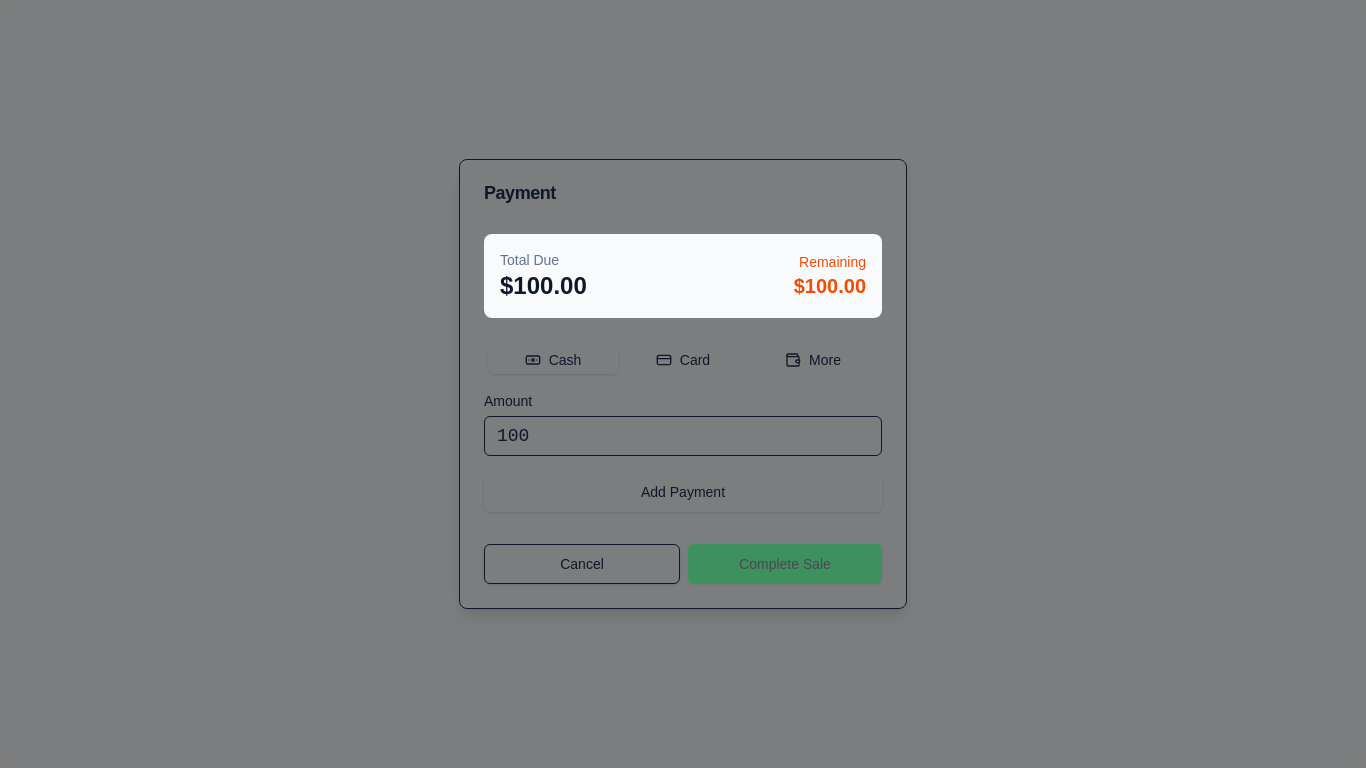
Scenario: PaymentModal › shows reference note field for card payments
The width and height of the screenshot is (1366, 768).
# Switch to Card tab
What coordinates should you click on to do the following:
click the tab "Card"
I would click on:
 (683, 360)
Its box is [618,346,748,374].
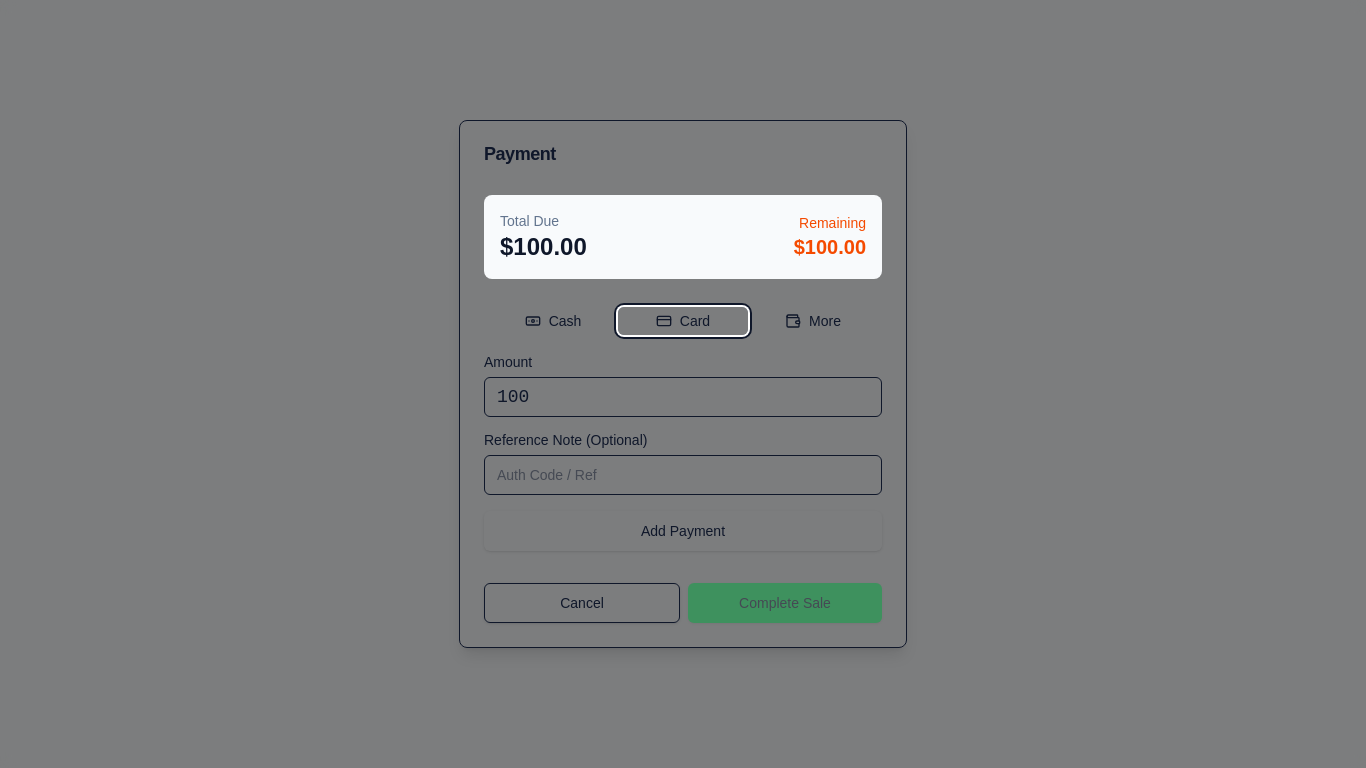
Expected: the field with placeholder "Auth Code / Ref" is shown, [484,455,882,495]
